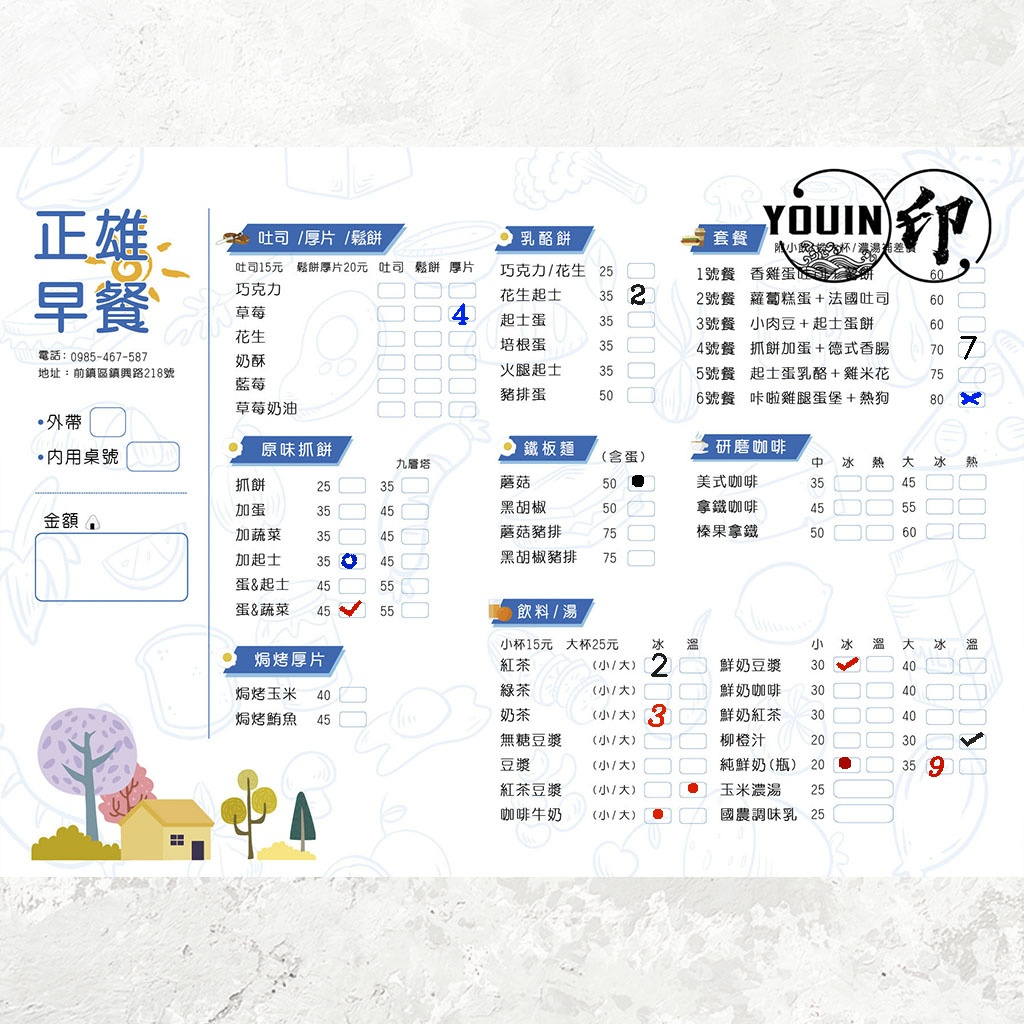marked_circle: (832, 755, 858, 769), (627, 474, 653, 488), (644, 807, 670, 821), (679, 780, 705, 794)
marked_hollow: (337, 554, 363, 568)
marked_number_2: (644, 657, 670, 671), (628, 288, 654, 302)
marked_number_3: (644, 707, 670, 721)
marked_number_4: (448, 305, 474, 319)
marked_number_7: (957, 341, 983, 355)
marked_number_9: (925, 759, 951, 773)
marked_tick: (957, 732, 983, 746), (834, 657, 860, 671), (338, 602, 364, 616)
marked_x: (958, 391, 984, 405)
